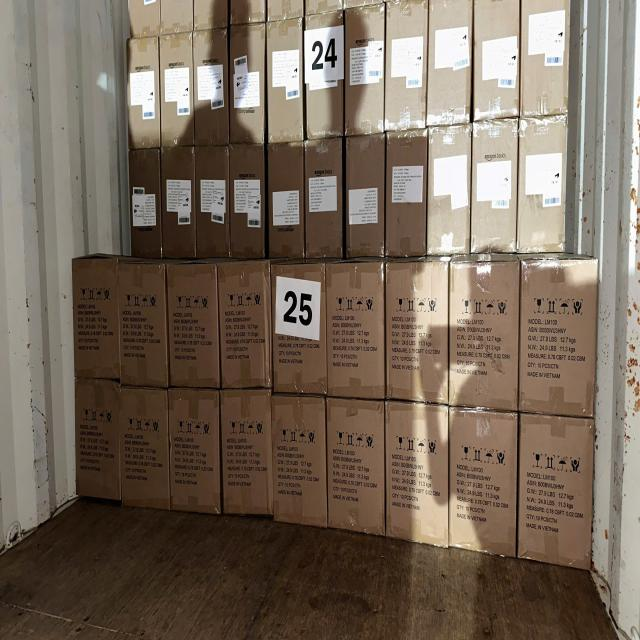Carton: (520, 260, 598, 421), (520, 414, 596, 570), (451, 262, 523, 412), (450, 409, 521, 558), (384, 403, 451, 549), (385, 261, 450, 406), (324, 264, 386, 402), (326, 398, 388, 534), (270, 399, 328, 530), (271, 262, 328, 391), (115, 263, 170, 390), (167, 264, 222, 390), (217, 264, 269, 390), (170, 393, 222, 518), (118, 391, 171, 513), (219, 394, 270, 519), (70, 257, 120, 379), (73, 377, 121, 501)
